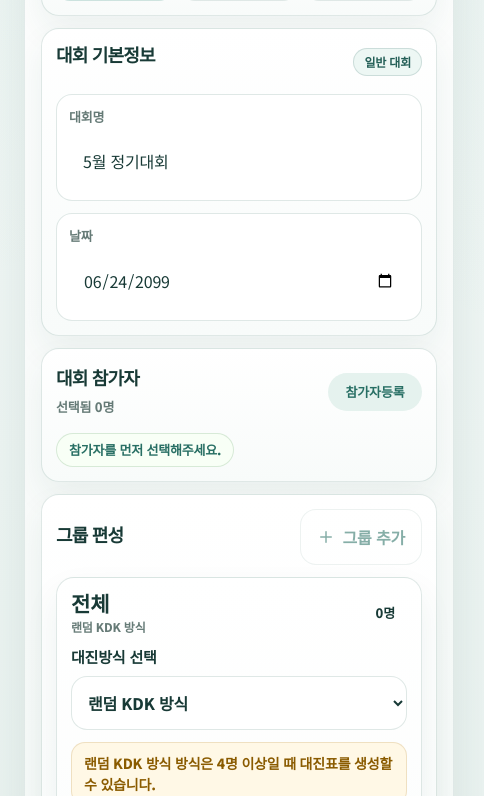
Test case: TournamentManageClient save timing › selects only members of the chosen gender without saving immediately
The image size is (484, 796).
(page scrolled)
Click the button "대회 참가자 선택됨 0명 참가자등록". click: (97, 379)
box: [56,363,422,421]
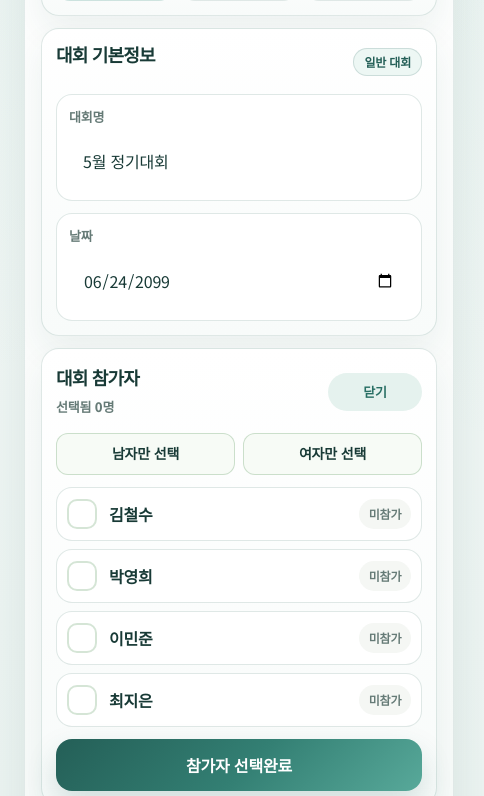
Click the button "남자만 선택". click: (146, 454)
box: [56,433,235,475]
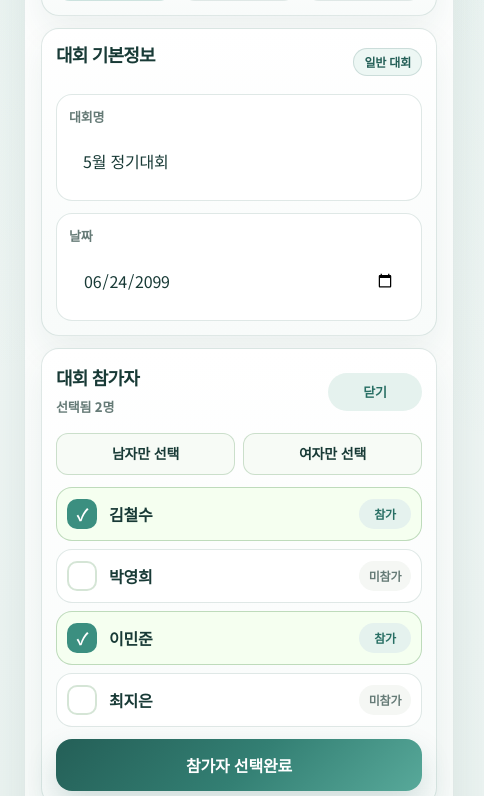
Click the button "참가자 선택완료". click: (239, 765)
box: [56,739,422,791]
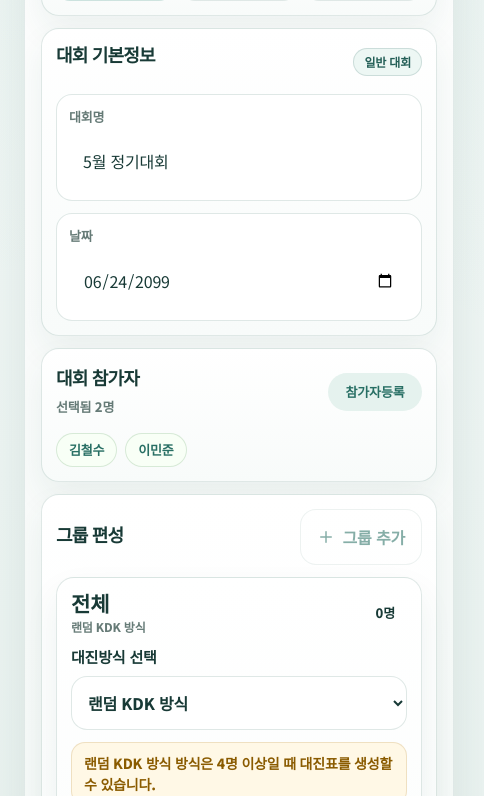
Expected: the element with class "selected-summary" shows "김철수", [69,440,104,459]
Expected: the element with class "selected-summary" shows "이민준", [138,440,174,459]
Expected: the button with class "selected-summary" no longer shows "박영희"
